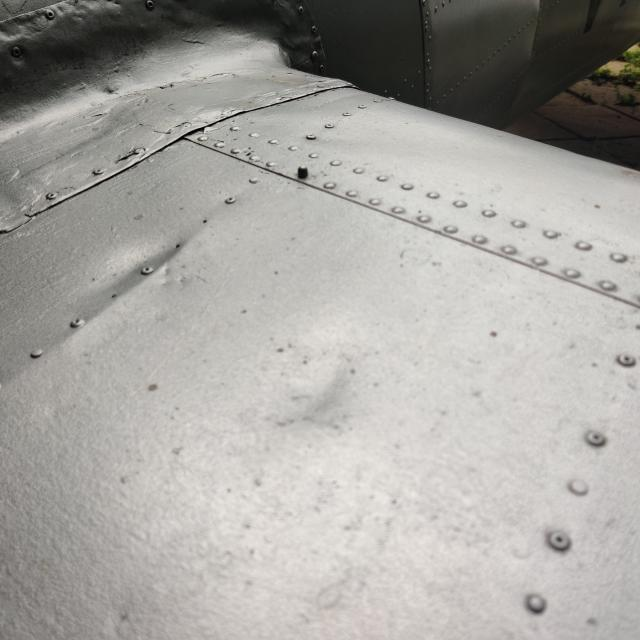dent: (243, 311, 380, 448), (81, 211, 203, 322)
